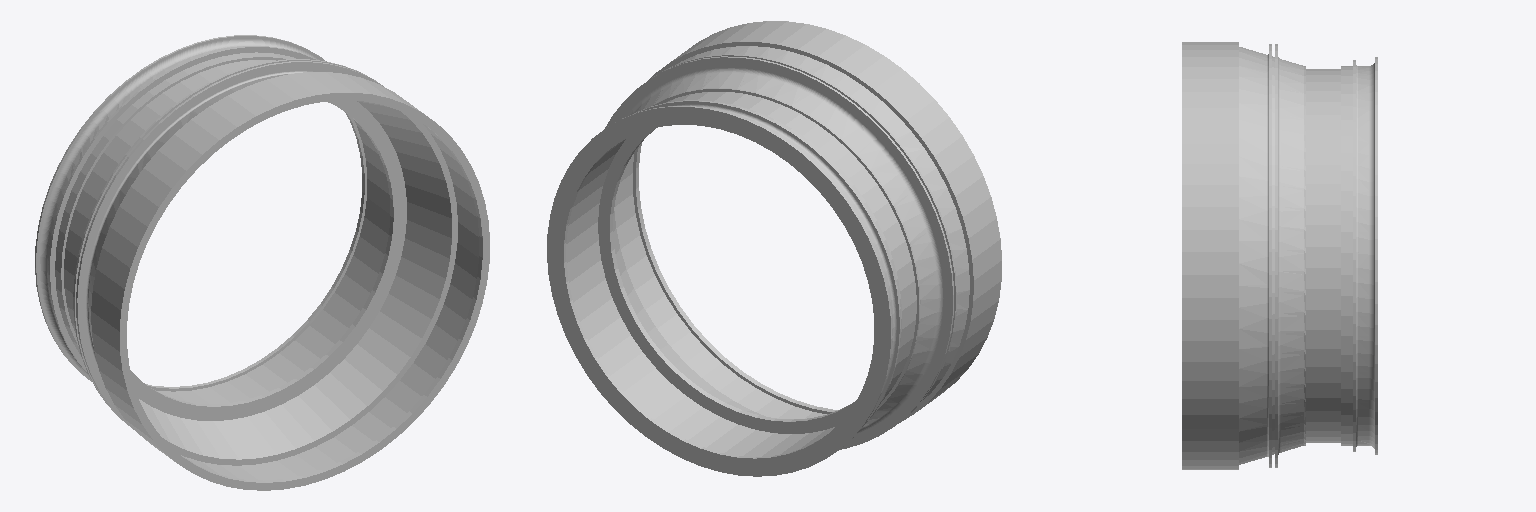
File: 0.0001Outer.obj
The picture shows the model from 3 angles: view 1: azimuth 30°, elevation 25°; view 2: azimuth 150°, elevation 25°; view 3: azimuth 270°, elevation 25°; orthographic projection.
Visible parts, largest first — view 1: object_14, object_28, object_30, object_16, object_11, object_27, object_1, object_19, object_22, object_13, object_21, object_5 (+10 smaller); view 2: object_23, object_4, object_28, object_16, object_30, object_22, object_27, object_2, object_19, object_10, object_14, object_15 (+10 smaller); view 3: object_28, object_22, object_27, object_23, object_19, object_21, object_24, object_26, object_18, object_25, object_20.
Part boxes in pixels (x1,y1,x2,y2): object_14: (139, 101, 451, 459); object_28: (91, 72, 434, 461); object_30: (181, 124, 478, 480); object_16: (157, 120, 389, 404); object_11: (120, 93, 489, 490); object_27: (77, 62, 383, 427); object_1: (130, 100, 406, 420); object_19: (36, 36, 326, 381); object_22: (64, 60, 275, 332); object_13: (163, 112, 457, 465); object_21: (55, 52, 295, 354); object_5: (50, 47, 315, 371); object_23: (605, 57, 952, 449); object_4: (547, 107, 890, 476); object_28: (667, 21, 1001, 411); object_16: (566, 139, 834, 456); object_30: (614, 154, 826, 418); object_22: (666, 92, 916, 399); object_27: (676, 46, 969, 397); object_2: (598, 128, 856, 433); object_19: (637, 101, 899, 420); object_10: (649, 42, 973, 422); object_14: (613, 211, 763, 415); object_15: (610, 129, 853, 421); object_28: (1182, 42, 1238, 469); object_22: (1306, 69, 1340, 442); object_27: (1239, 47, 1268, 464); object_23: (1278, 57, 1305, 454); object_19: (1356, 63, 1374, 448); object_21: (1341, 66, 1352, 445); object_24: (1275, 44, 1277, 467); object_26: (1269, 44, 1271, 467); object_18: (1375, 57, 1377, 454); object_25: (1272, 56, 1274, 454); object_20: (1353, 60, 1355, 451).
Size of the model in its own units: 6.86 by 6.86 by 3.13.